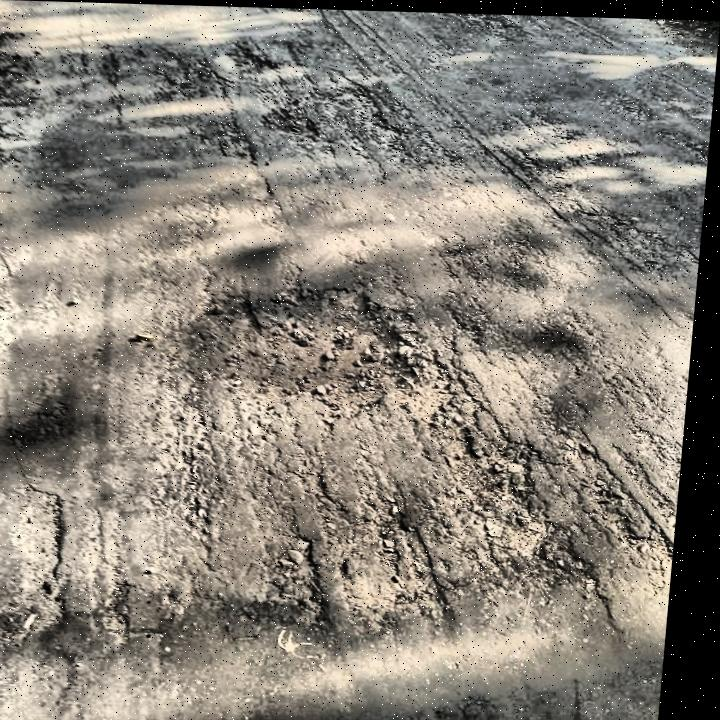pothole: (203, 276, 435, 414)
